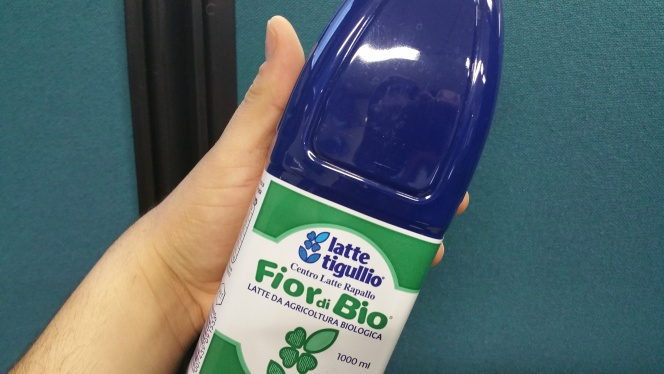bottle: (210, 2, 506, 372)
